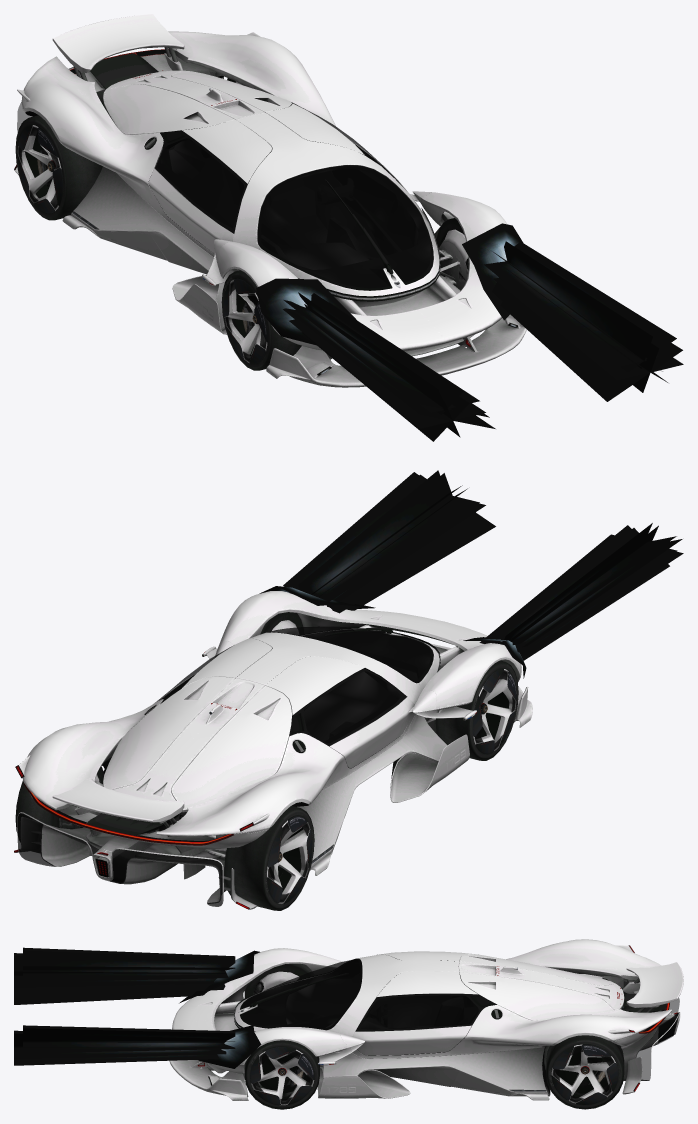
File: vision_1789.glb
The picture shows the model from 3 angles, top to bottom: view 1: azimuth 30°, elevation 25°; view 2: azimuth 150°, elevation 25°; view 3: azimuth 270°, elevation 25°; orthographic projection. The views are drawn at different scales.
Visible parts, largest first — view 1: chassis_carpaint.003, lights_position_front_and_back_pivot_glows.001_Material.010_, glasses_glass_windows.001, chassis_carpaint_3, chassis_carpaint_2, detach_door_R_50_carpaint.001, detach_door_L_50_carpaint.001, WheelBR_tyres, chassis_details.002, WheelBR_rims, WheelBR_carpaint_2, WheelFR_rims (+4 smaller); view 2: chassis_carpaint.003, lights_position_front_and_back_pivot_glows.001_Material.010_, chassis_carpaint_2, glasses_glass_windows.001, chassis_carpaint_3, detach_door_R_50_carpaint.001, WheelBR_tyres, chassis_glass_light, detach_door_L_50_carpaint.001, WheelFR_tyres, chassis_details.002, WheelBR_rims (+5 smaller); view 3: chassis_carpaint.003, lights_position_front_and_back_pivot_glows.001_Material.010_, glasses_glass_windows.001, chassis_carpaint_2, chassis_carpaint_3, detach_door_L_50_carpaint.001, WheelBL_tyres, WheelBL_rims, WheelFL_rims, WheelFL_tyres, WheelBL_carpaint_2, WheelFL_carpaint_2 (+8 smaller).
Part boxes in pixels (left/top/right/bottom): chassis_carpaint.003: left=17, top=14, right=506, bottom=351; lights_position_front_and_back_pivot_glows.001_Material.010_: left=70, top=49, right=683, bottom=441; glasses_glass_windows.001: left=154, top=102, right=433, bottom=290; chassis_carpaint_3: left=14, top=53, right=526, bottom=385; chassis_carpaint_2: left=14, top=76, right=524, bottom=387; detach_door_R_50_carpaint.001: left=148, top=119, right=271, bottom=258; detach_door_L_50_carpaint.001: left=265, top=102, right=433, bottom=221; WheelBR_tyres: left=15, top=115, right=102, bottom=220; chassis_details.002: left=72, top=47, right=509, bottom=347; WheelBR_rims: left=17, top=125, right=63, bottom=213; WheelBR_carpaint_2: left=17, top=125, right=61, bottom=210; WheelFR_rims: left=224, top=278, right=267, bottom=363; chassis_carpaint.003: left=19, top=591, right=521, bottom=879; lights_position_front_and_back_pivot_glows.001_Material.010_: left=24, top=470, right=683, bottom=845; chassis_carpaint_2: left=20, top=615, right=532, bottom=908; glasses_glass_windows.001: left=155, top=626, right=433, bottom=746; chassis_carpaint_3: left=17, top=624, right=527, bottom=909; detach_door_R_50_carpaint.001: left=265, top=656, right=436, bottom=768; WheelBR_tyres: left=224, top=806, right=314, bottom=910; chassis_glass_light: left=18, top=813, right=222, bottom=905; detach_door_L_50_carpaint.001: left=154, top=638, right=271, bottom=703; WheelFR_tyres: left=435, top=660, right=518, bottom=760; chassis_details.002: left=78, top=628, right=476, bottom=863; WheelBR_rims: left=267, top=815, right=312, bottom=903; chassis_carpaint.003: left=172, top=939, right=683, bottom=1094; lights_position_front_and_back_pivot_glows.001_Material.010_: left=14, top=947, right=669, bottom=1068; glasses_glass_windows.001: left=240, top=958, right=496, bottom=1031; chassis_carpaint_2: left=170, top=956, right=680, bottom=1100; chassis_carpaint_3: left=169, top=996, right=679, bottom=1095; detach_door_L_50_carpaint.001: left=340, top=971, right=496, bottom=1055; WheelBL_tyres: left=546, top=1035, right=624, bottom=1109; WheelBL_rims: left=551, top=1044, right=618, bottom=1104; WheelFL_rims: left=250, top=1047, right=314, bottom=1105; WheelFL_tyres: left=244, top=1040, right=319, bottom=1109; WheelBL_carpaint_2: left=551, top=1044, right=615, bottom=1103; WheelFL_carpaint_2: left=251, top=1049, right=314, bottom=1105.
Bounding box in the file's own units: 2.13 × 1.03 × 6.27.
8 materials, 7 textured.
